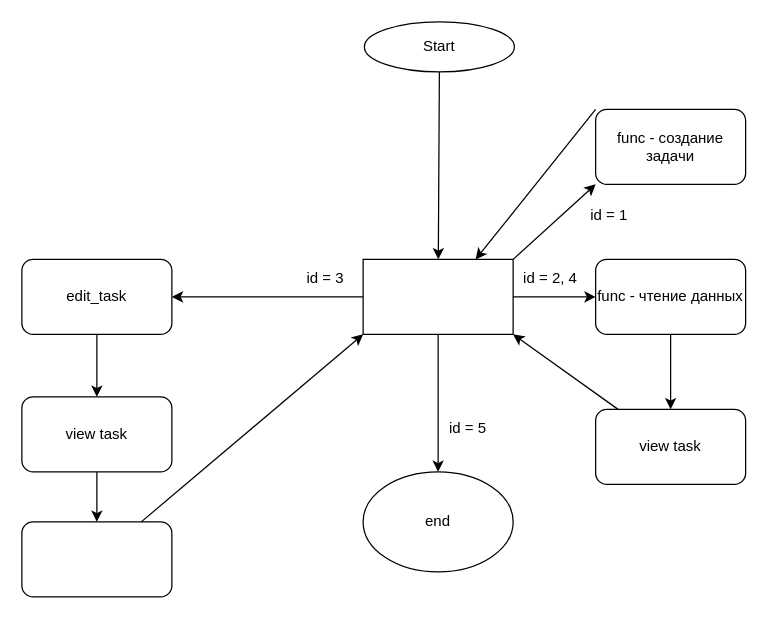
This 768x619 diagram has some shape labels left out. The shapes that lost their labels are listed below. From the top down, each one's box as (x1, y1, x2, y2) in pixels, then its label:
(362, 258, 513, 334): Main_menu
(21, 521, 172, 597): func - сохранение
